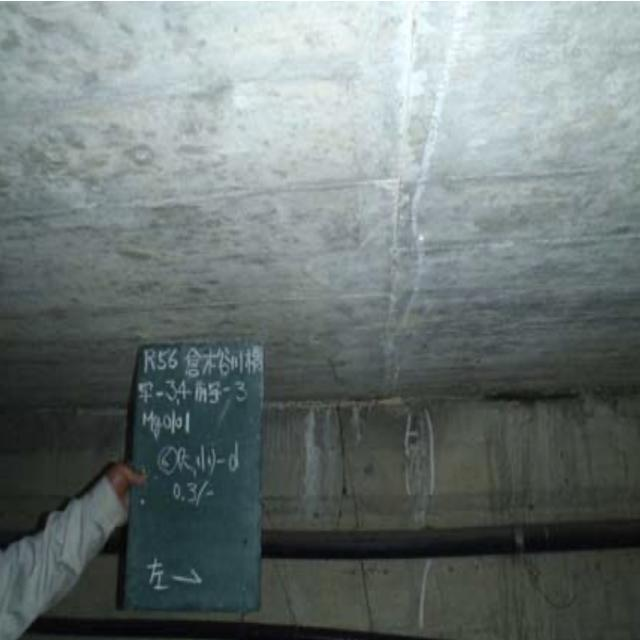leakage: (477, 379, 590, 544)
